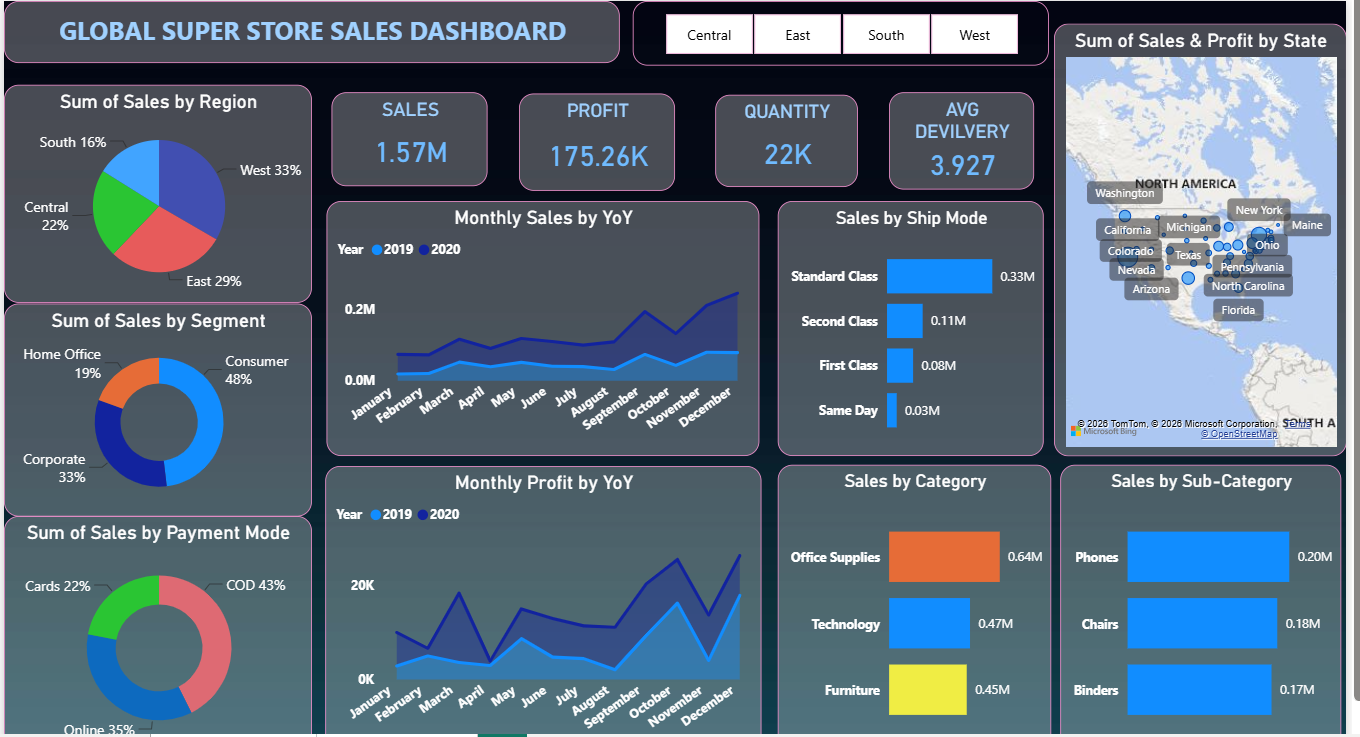

This screenshot's page, from the dashboard's own definition file:
{"tool":"powerbi","page":{"name":"SuperStore_Sales","canvas":[1280,720],"ordinal":0},"visuals":[{"type":"clusteredBarChart","title":"Sales by Ship Mode","fields":{"Category":["SuperStore_Sales_Dataset.Ship Mode"],"Y":["Sum(SuperStore_Sales_Dataset.Sales)"]},"box":[737.9,190.7,253.9,243.2],"z":0},{"type":"clusteredBarChart","title":"Sales by Category","fields":{"Category":["SuperStore_Sales_Dataset.Category"],"Y":["Sum(SuperStore_Sales_Dataset.Sales)"]},"box":[737.9,442.2,261.1,275.4],"z":0,"group":"g5"},{"type":"map","title":"Sum of Sales & Profit by State","fields":{"Category":["SuperStore_Sales_Dataset.State"],"Size":["Sum(SuperStore_Sales_Dataset.Sales)"]},"box":[1001.3,21.5,278.9,412.4],"z":1000},{"type":"clusteredBarChart","title":"Sales by Sub-Category","fields":{"Category":["SuperStore_Sales_Dataset.Sub-Category"],"Y":["Sum(SuperStore_Sales_Dataset.Sales)"]},"box":[1007.3,442.3,268.2,275.4],"z":1000,"group":"g5"},{"type":"group","id":"g1","title":"Group 1","box":[312,87,669.8,94.2],"z":2000},{"type":"group","id":"g2","title":"Group 2","box":[0,0,996.5,62],"z":3000},{"type":"stackedAreaChart","title":"Monthly Sales by YoY","fields":{"Category":["SuperStore_Sales_Dataset.Order Date.Variation.Date Hierarchy.Month","SuperStore_Sales_Dataset.Order Date.Variation.Date Hierarchy.Day"],"Series":["SuperStore_Sales_Dataset.Order Date.Variation.Date Hierarchy.Year"],"Y":["Sum(SuperStore_Sales_Dataset.Sales)"]},"box":[307.7,190.7,412.6,243.1],"z":3000,"group":"g4"},{"type":"group","id":"g3","title":"Group 3","box":[0,80,293.3,640],"z":4000},{"type":"stackedAreaChart","title":"Monthly Profit by YoY","fields":{"Category":["SuperStore_Sales_Dataset.Order Date.Variation.Date Hierarchy.Month","SuperStore_Sales_Dataset.Order Date.Variation.Date Hierarchy.Day"],"Series":["SuperStore_Sales_Dataset.Order Date.Variation.Date Hierarchy.Year"],"Y":["Sum(SuperStore_Sales_Dataset.Profit)"]},"box":[306.9,443.7,416,275.4],"z":4000,"group":"g4"},{"type":"group","id":"g4","title":"Group 4","box":[306.9,190.7,416,528.4],"z":5000},{"type":"donutChart","fields":{"Category":["SuperStore_Sales_Dataset.Segment"],"Y":["Sum(SuperStore_Sales_Dataset.Sales)"]},"box":[0,288.3,293.3,203.3],"z":6000,"group":"g3"},{"type":"group","id":"g5","title":"Group 5","box":[737.9,442.2,537.6,275.4],"z":6000},{"type":"donutChart","fields":{"Category":["SuperStore_Sales_Dataset.Payment Mode"],"Y":["Sum(SuperStore_Sales_Dataset.Sales)"]},"box":[0,491.7,293.3,228.3],"z":7000,"group":"g3"},{"type":"slicer","fields":{"Values":["SuperStore_Sales_Dataset.Region"]},"box":[599.4,0,397.1,62],"z":8000,"group":"g2"},{"type":"textbox","box":[0,0,587.2,58.8],"z":9000,"group":"g2"},{"type":"card","title":"SALES","fields":{"Values":["Sum(SuperStore_Sales_Dataset.Sales)"]},"box":[312,87,149,89.4],"z":10000,"group":"g1"},{"type":"card","title":"PROFIT","fields":{"Values":["Sum(SuperStore_Sales_Dataset.Profit)"]},"box":[490.8,88.2,149,93],"z":11000,"group":"g1"},{"type":"card","title":"AVG DEVILVERY","fields":{"Values":["Avg(SuperStore_Sales_Dataset.AvgDelivery)"]},"box":[843.6,87,138.3,93],"z":12000,"group":"g1"},{"type":"card","title":"QUANTITY","fields":{"Values":["Sum(SuperStore_Sales_Dataset.Quantity)"]},"box":[677.9,89.4,135.9,88.2],"z":13000,"group":"g1"},{"type":"pieChart","fields":{"Category":["SuperStore_Sales_Dataset.Region"],"Y":["Sum(SuperStore_Sales_Dataset.Sales)"]},"box":[0,80,293.3,208.3],"z":13003,"group":"g3"}]}

Visuals, with their boxes on the page's 1280x720 design canvas (x1, y1, x2, y2). These are canvas units, not pixel positions in the 1360x737 screenshot, which may show the page scaled, cropped or inside an application window:
"Sales by Ship Mode" clusteredBarChart: x1=738, y1=191, x2=992, y2=434
"Sales by Category" clusteredBarChart: x1=738, y1=442, x2=999, y2=718
"Sum of Sales & Profit by State" map: x1=1001, y1=22, x2=1280, y2=434
"Sales by Sub-Category" clusteredBarChart: x1=1007, y1=442, x2=1276, y2=718
"Group 1" group: x1=312, y1=87, x2=982, y2=181
"Group 2" group: x1=0, y1=0, x2=996, y2=62
"Monthly Sales by YoY" stackedAreaChart: x1=308, y1=191, x2=720, y2=434
"Group 3" group: x1=0, y1=80, x2=293, y2=720
"Monthly Profit by YoY" stackedAreaChart: x1=307, y1=444, x2=723, y2=719
"Group 4" group: x1=307, y1=191, x2=723, y2=719
donutChart - SuperStore_Sales_Dataset.Segment x Sum(SuperStore_Sales_Dataset.Sales): x1=0, y1=288, x2=293, y2=492
"Group 5" group: x1=738, y1=442, x2=1276, y2=718
donutChart - SuperStore_Sales_Dataset.Payment Mode x Sum(SuperStore_Sales_Dataset.Sales): x1=0, y1=492, x2=293, y2=720
slicer - SuperStore_Sales_Dataset.Region: x1=599, y1=0, x2=996, y2=62
textbox: x1=0, y1=0, x2=587, y2=59
"SALES" card: x1=312, y1=87, x2=461, y2=176
"PROFIT" card: x1=491, y1=88, x2=640, y2=181
"AVG DEVILVERY" card: x1=844, y1=87, x2=982, y2=180
"QUANTITY" card: x1=678, y1=89, x2=814, y2=178
pieChart - SuperStore_Sales_Dataset.Region x Sum(SuperStore_Sales_Dataset.Sales): x1=0, y1=80, x2=293, y2=288
